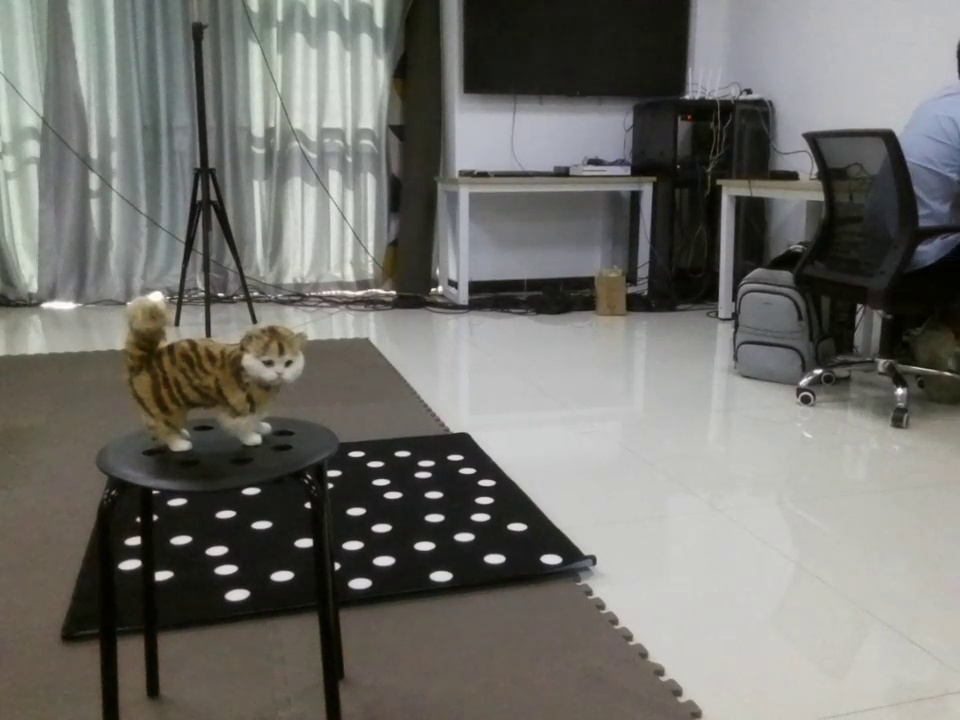cat: (98, 296, 326, 445)
